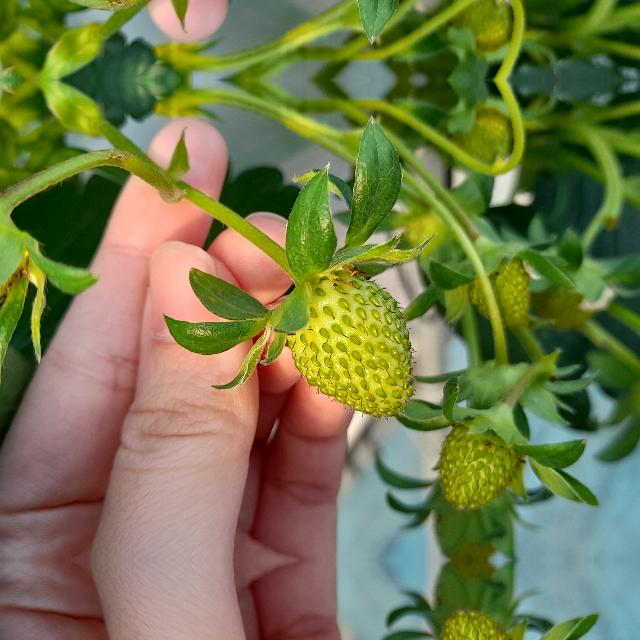Health_25: (284, 271, 418, 421)
